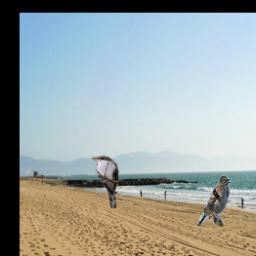Cuckoo: (91, 156, 119, 209)
Sparrow: (196, 174, 231, 227)
